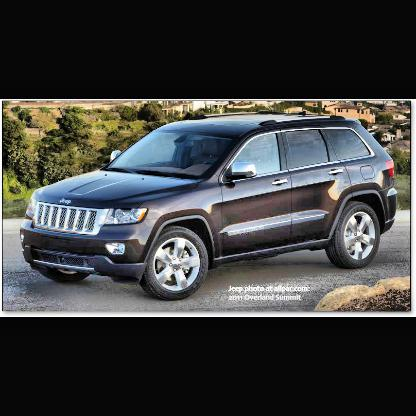Jeep Grand Cherokee SUV 2012: (21, 114, 399, 302)
